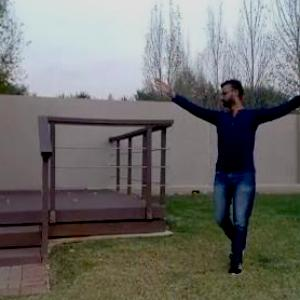takeoff: (145, 63, 299, 275)
